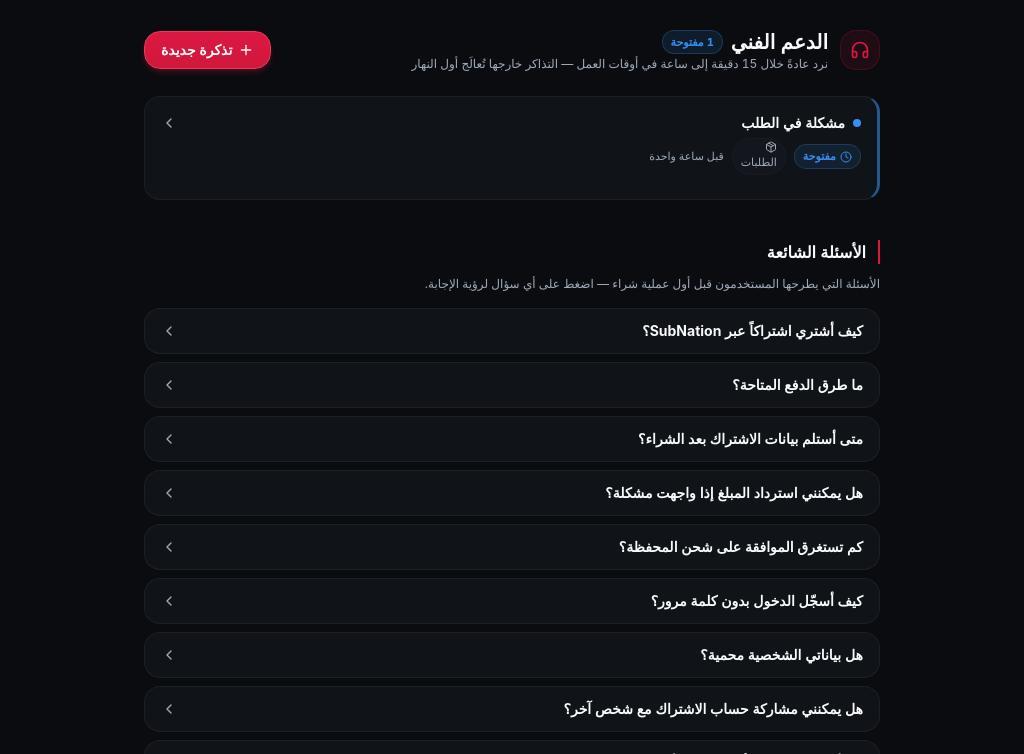
Test: SupportPage — B-10 open-ticket thread poll (25 s, visible tabs only) › an open ticket selected → one silent thread refetch per 25 s (new admin reply lands)
The image size is (1024, 754).
Step 1. Click the text "مشكلة في الطلب" → (793, 122), box [741,114,845,131]
Wait 50000 ms
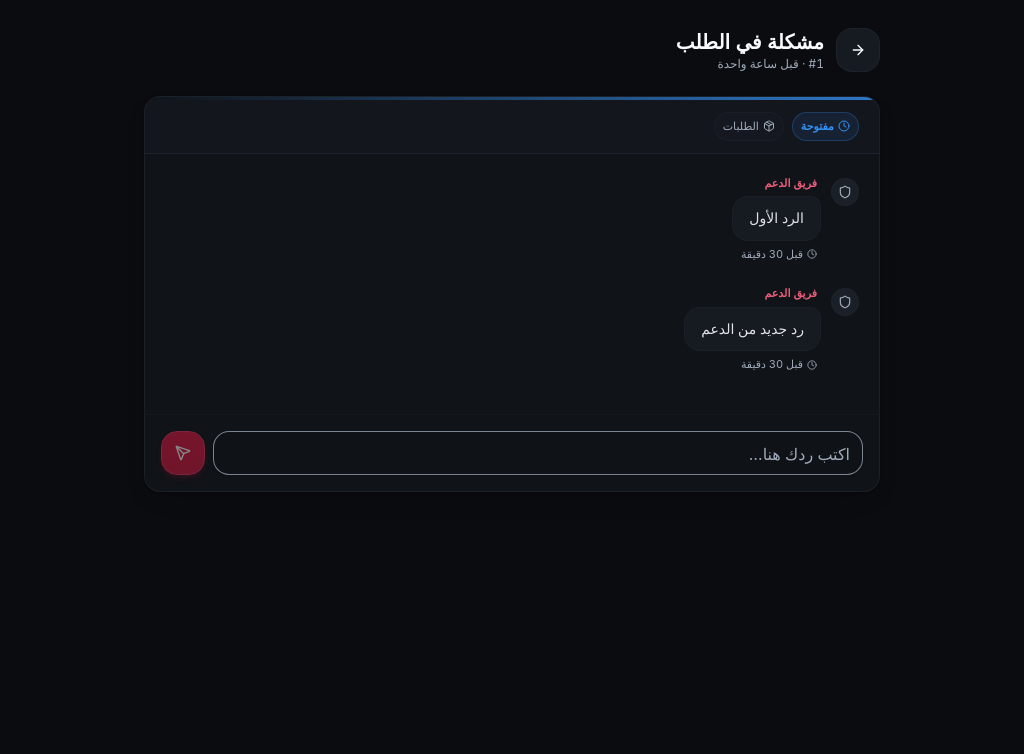
Check: the text "رد جديد من الدعم" is shown, box [684,306,821,351]
